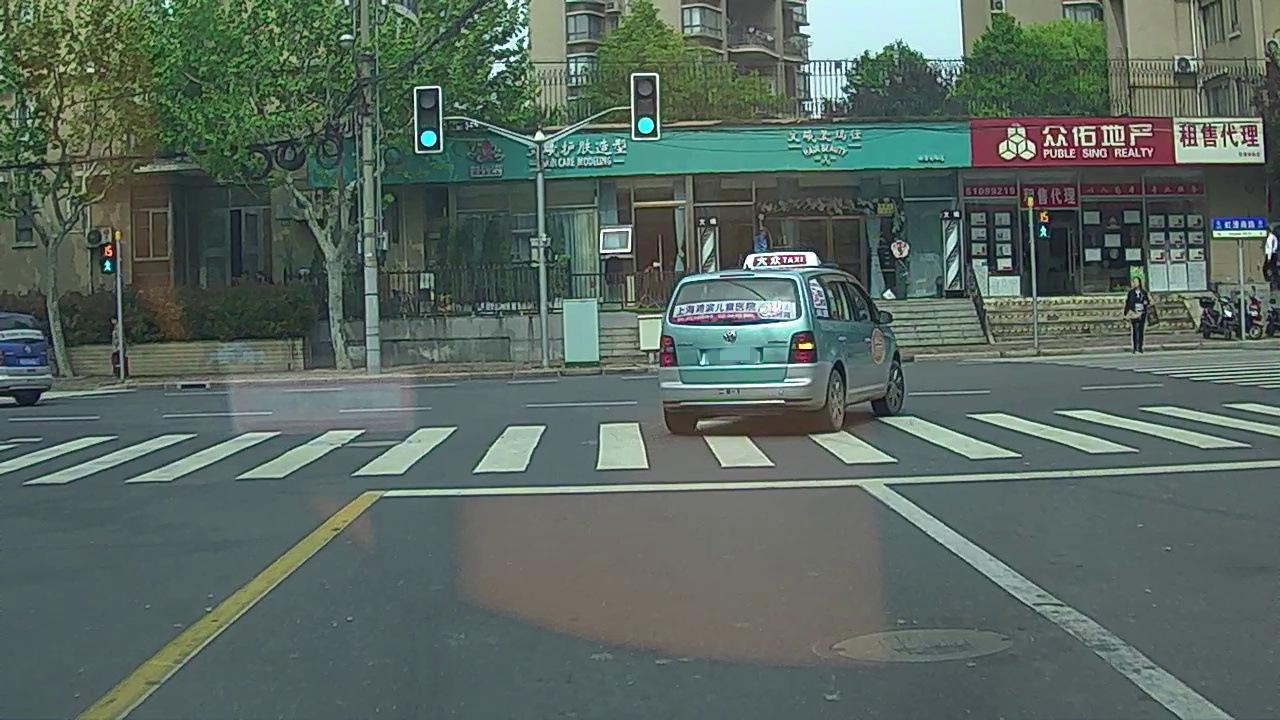traffic_light: (416, 89, 439, 153), (633, 76, 656, 136)
